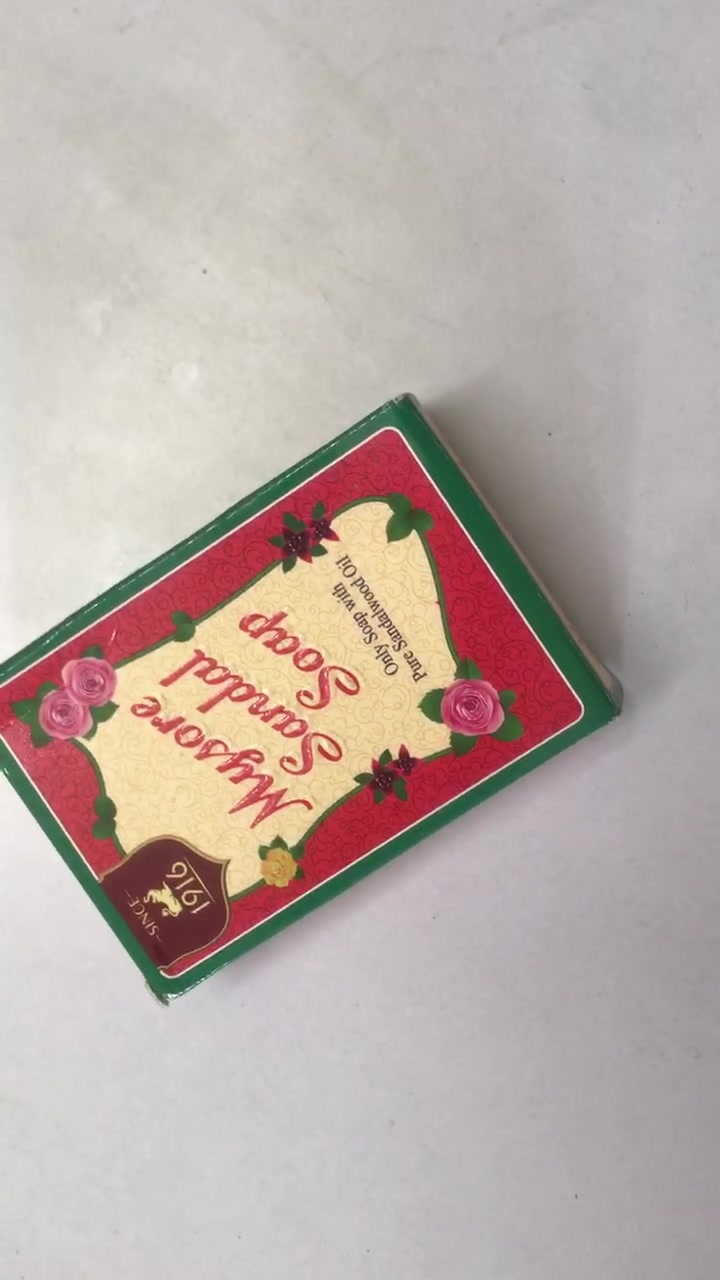mysore sandal soap: (5, 389, 621, 1012)
